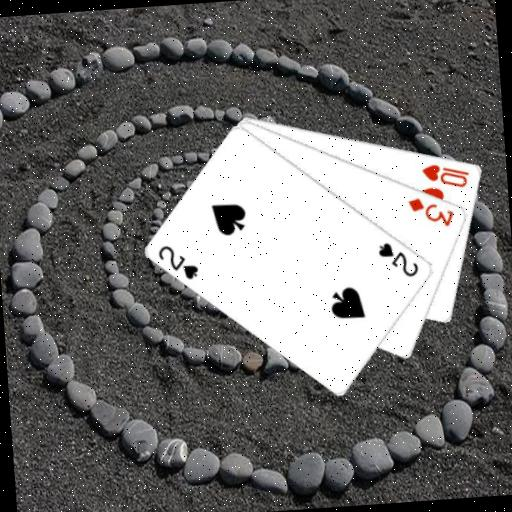10H: (419, 159, 472, 192)
2S: (375, 237, 422, 281), (155, 241, 202, 284)
3D: (405, 191, 457, 231)
